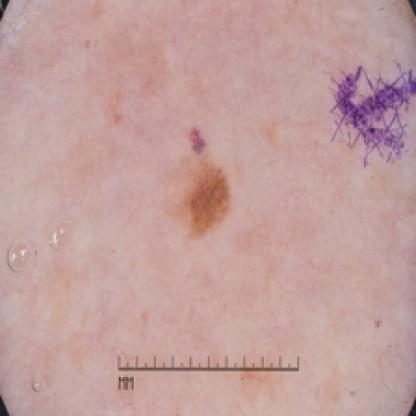malignant: (169, 125, 241, 232)
